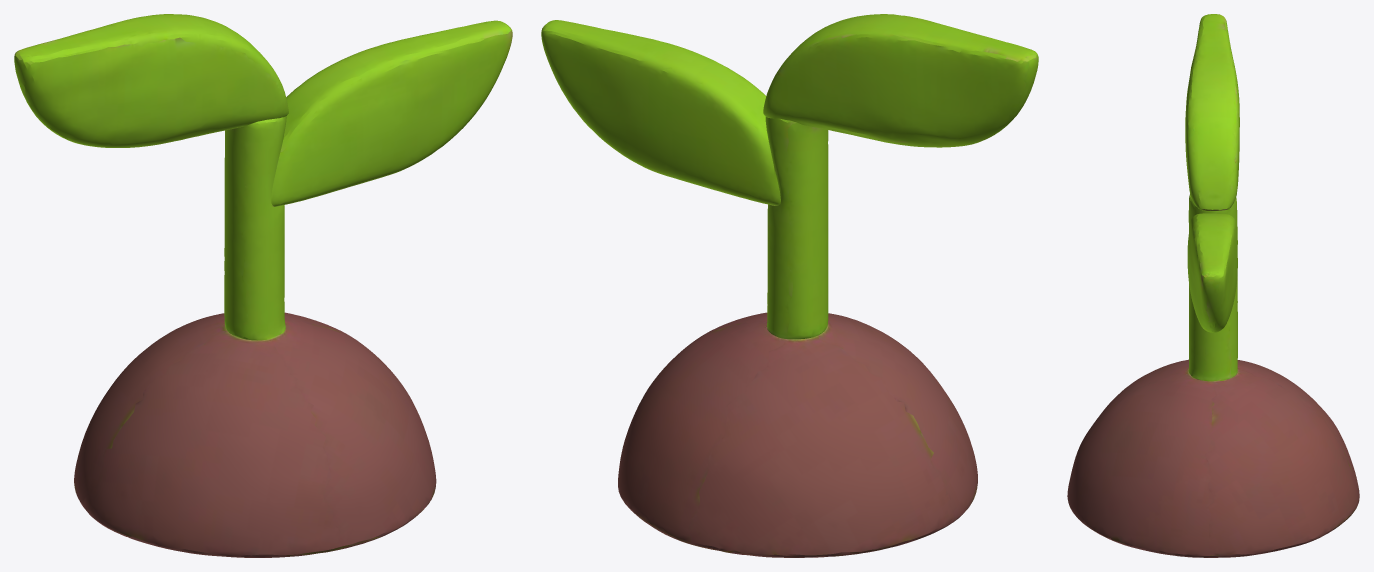
The model's file is seedling.glb.
The picture shows the model from 3 angles, left to right: view 1: azimuth 30°, elevation 25°; view 2: azimuth 150°, elevation 25°; view 3: azimuth 270°, elevation 25°; orthographic projection. The views are drawn at different scales.
Visible parts, largest first — view 1: Mesh; view 2: Mesh; view 3: Mesh.
Part boxes in pixels (x1=…): Mesh: x1=14, y1=14, x2=512, y2=557; Mesh: x1=541, y1=14, x2=1038, y2=557; Mesh: x1=1067, y1=14, x2=1359, y2=557.
Bounding box in the file's own units: 1 × 0.9501 × 0.6396.
1 material, 1 textured.
